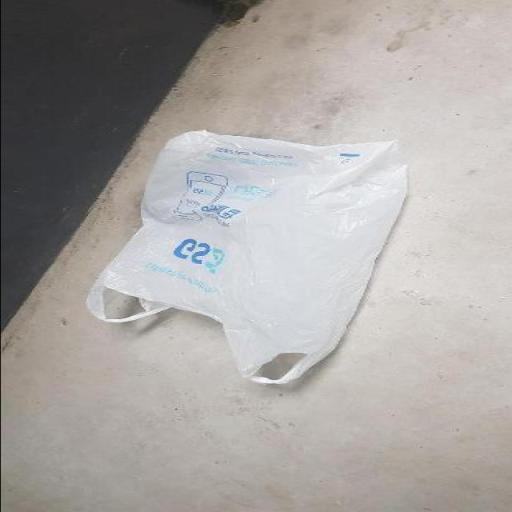plastic-bag: (82, 129, 413, 386)
